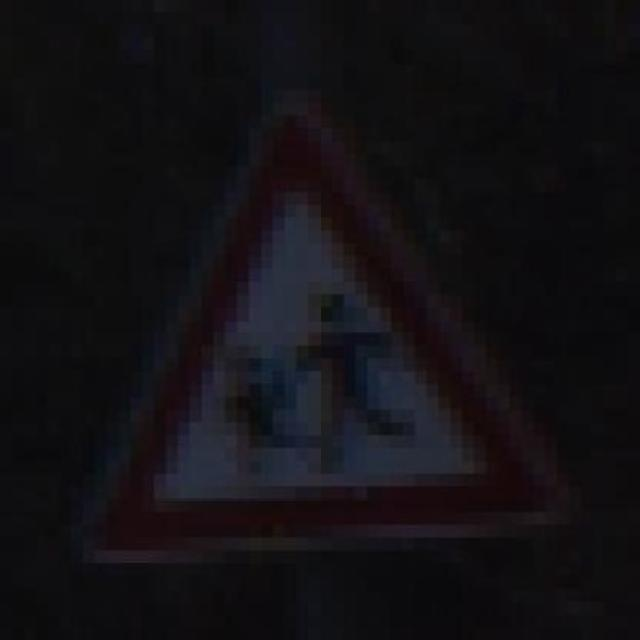Beware of children: (83, 89, 580, 563)
